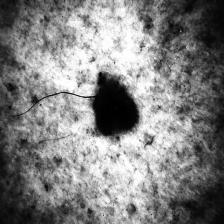Benign Marking or Mole: (95, 71, 138, 135)
